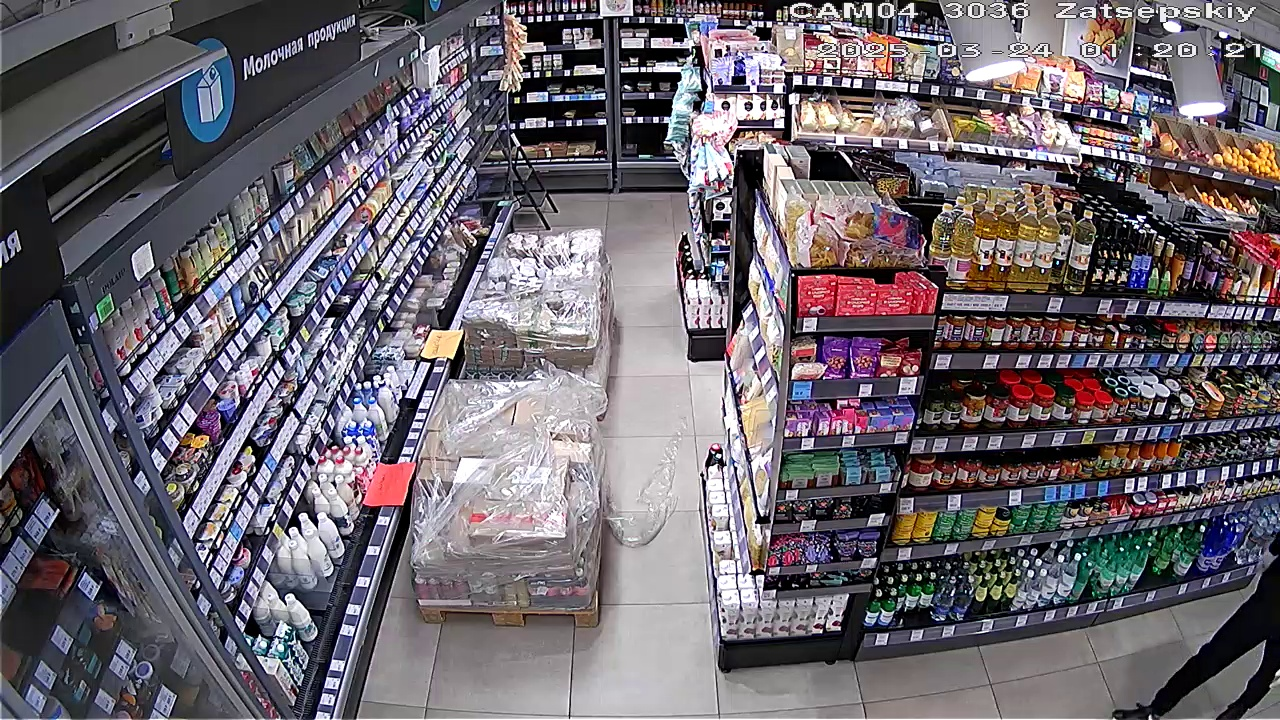Human: (1110, 524, 1279, 715)
pallet: (417, 372, 604, 623), (468, 222, 612, 385)
